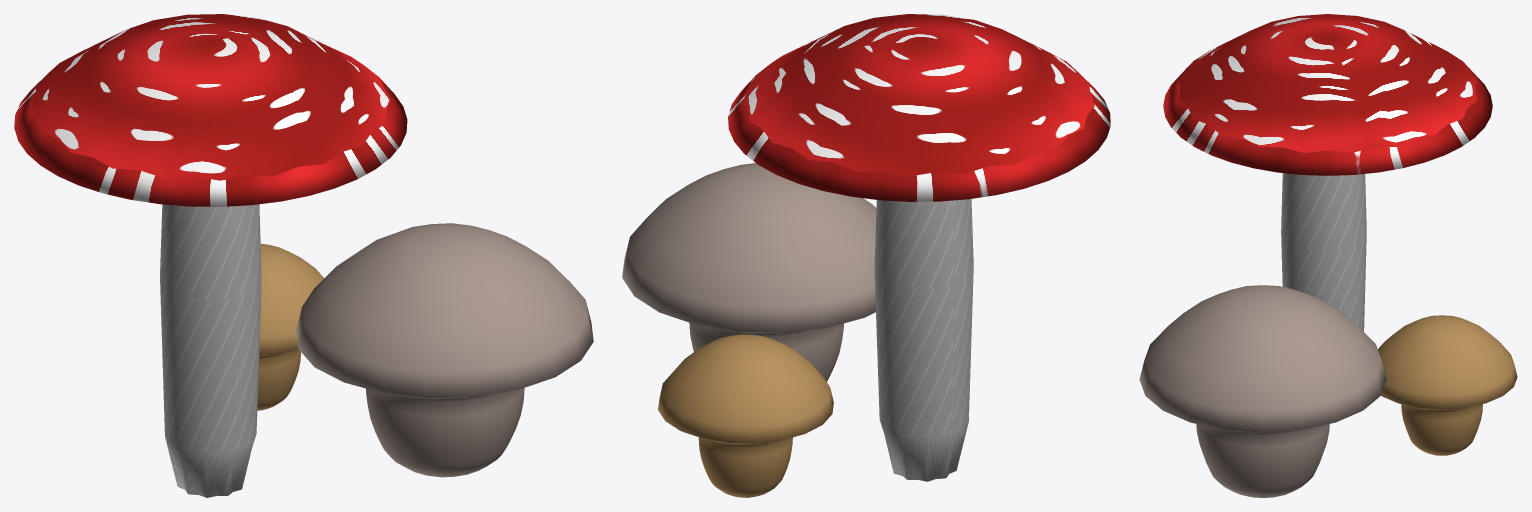
Rendered from Mushrooms.fbx.
3 renders of one model, left to right at view 1: azimuth 30°, elevation 25°; view 2: azimuth 150°, elevation 25°; view 3: azimuth 270°, elevation 25°, orthographic. The views are drawn at different scales.
Visible parts, largest first — view 1: polySurface5; view 2: polySurface5; view 3: polySurface5.
Part boxes in pixels (left/top/right/bottom): polySurface5: left=14, top=14, right=593, bottom=497; polySurface5: left=622, top=14, right=1110, bottom=497; polySurface5: left=1139, top=14, right=1517, bottom=497.
Bounding box in the file's own units: 3.02 × 2.58 × 2.38.
4 materials, 2 textured.
